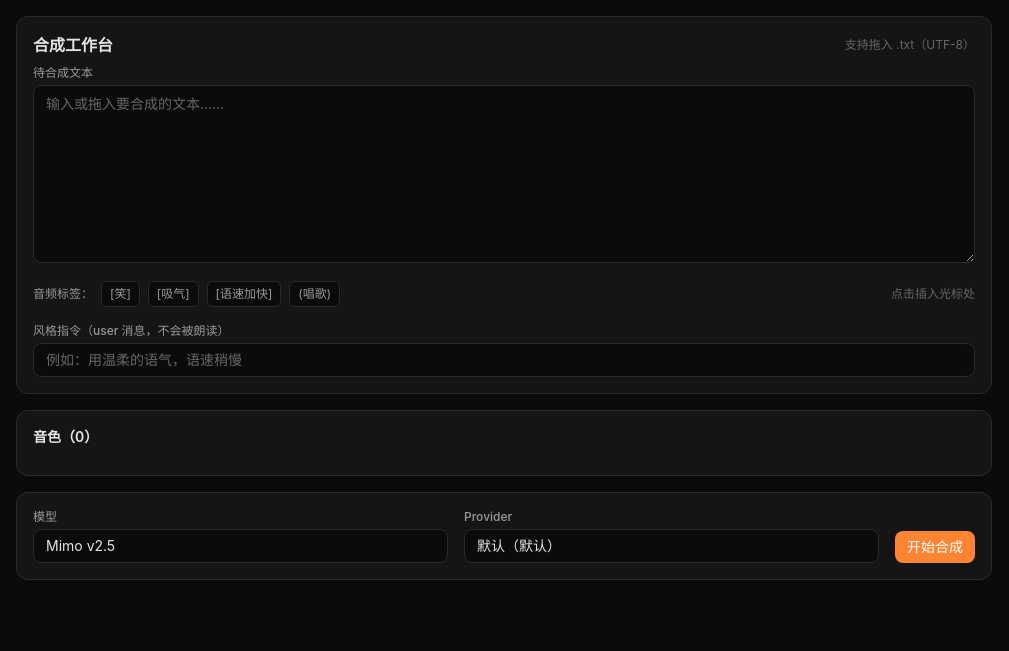
Test: Workbench › 无音色提交时显示错误
The width and height of the screenshot is (1009, 651).
Note: type the content
Type "你好世界" into the text box with test id "workbench-content" at point(504, 174), box [33, 85, 975, 263]
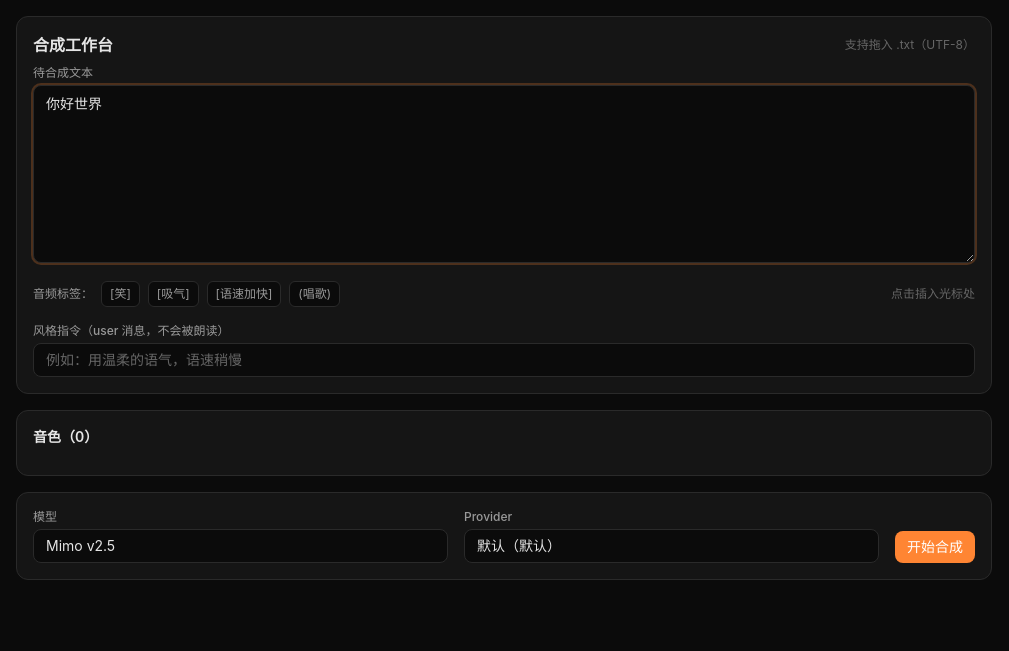
Note: click submit
Click the button with test id "workbench-submit" at point(935, 547), box [895, 531, 975, 563]
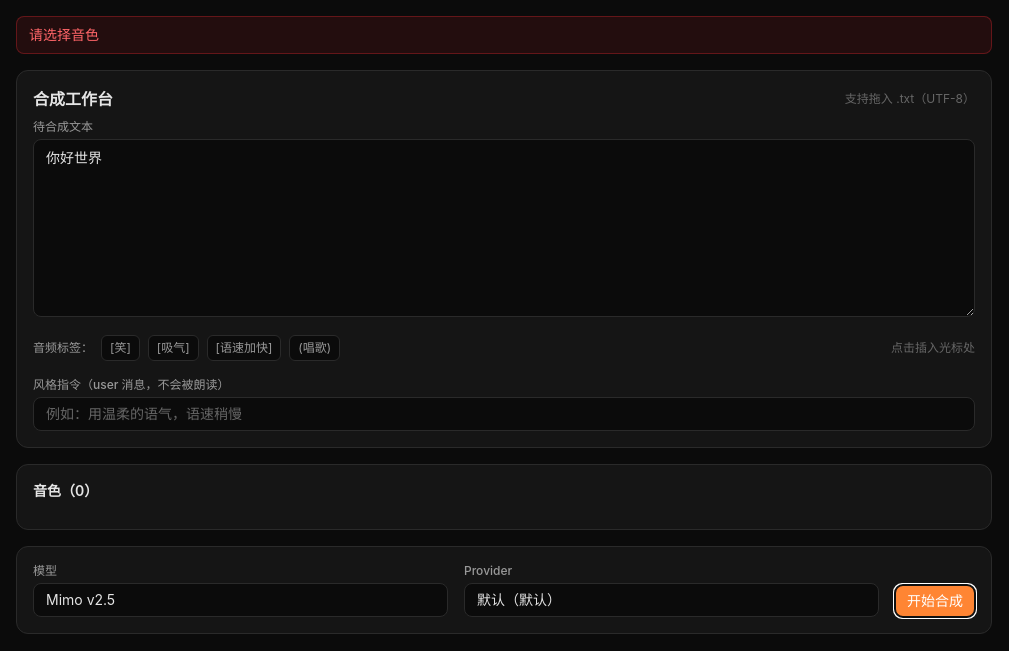
Expected: the text "请选择音色" is shown, [16, 16, 992, 54]
